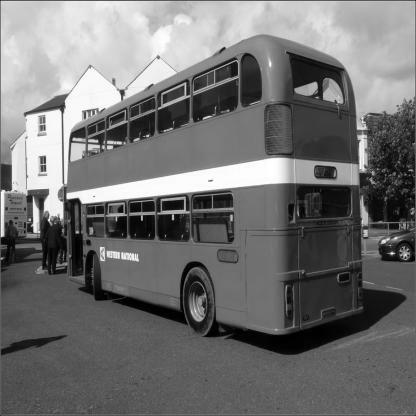bus: (57, 30, 379, 353)
